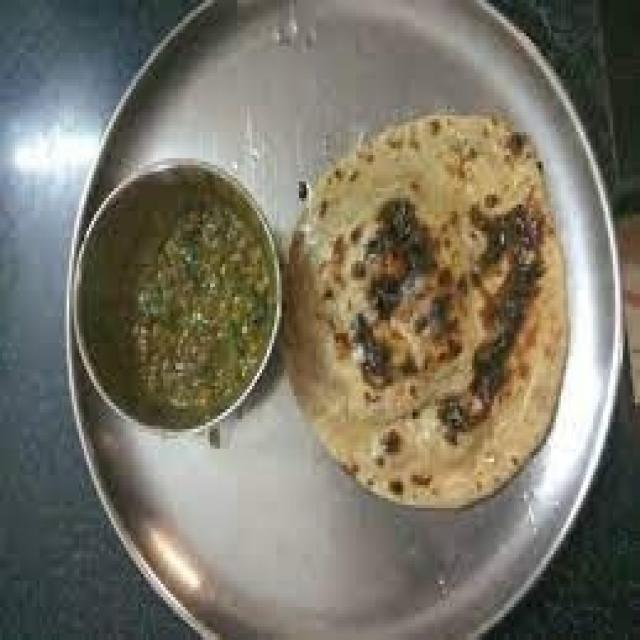Daal: (79, 191, 282, 416)
Roti: (289, 132, 581, 508)
